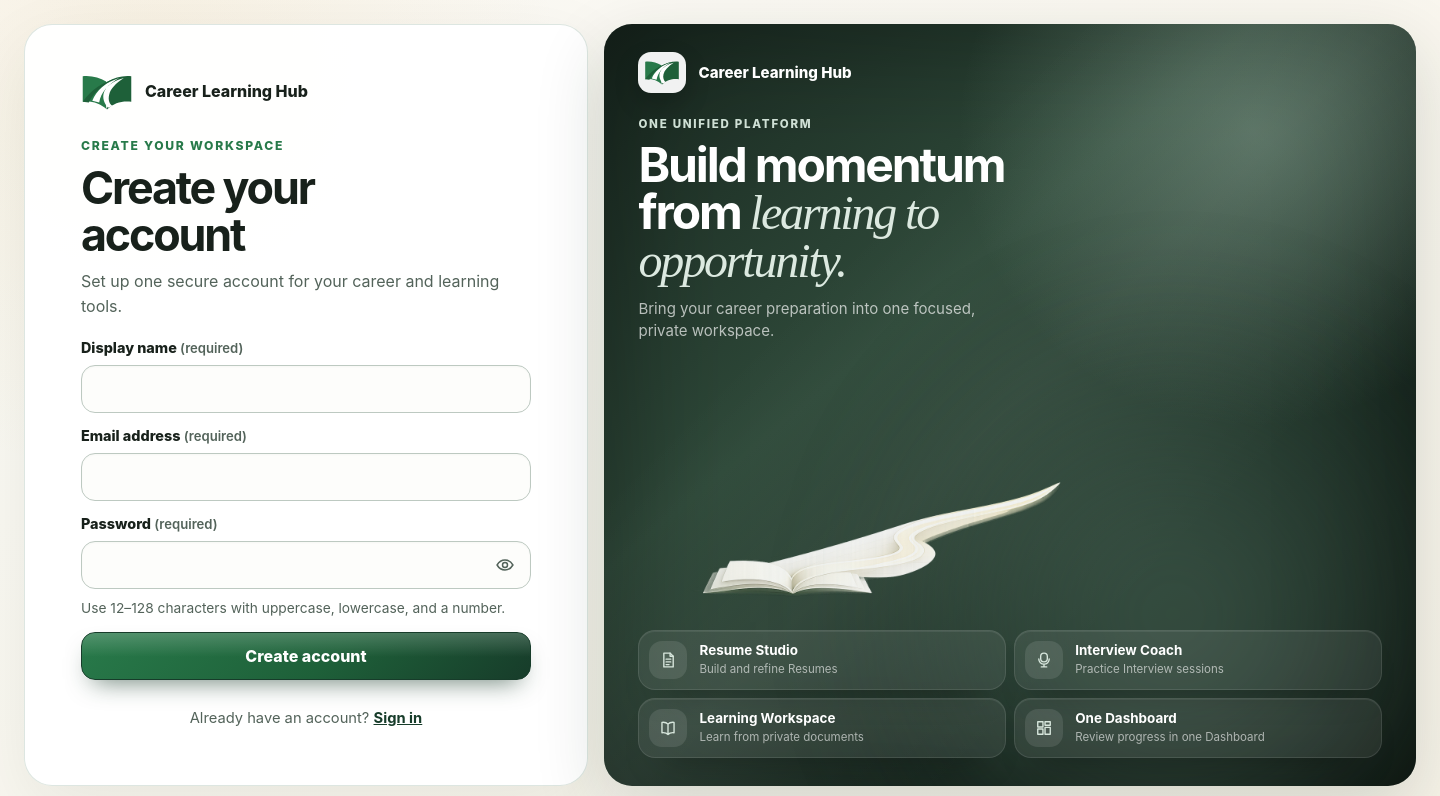
Scenario: authentication forms and shell interaction › renders the neutral registration failure without account disclosure
Expected: the heading "Create your account" is shown, x1=81 y1=161 x2=314 y2=262
Type "Registration User" into the field labelled "Display name" at (306, 388), box x1=81 y1=364 x2=531 y2=412
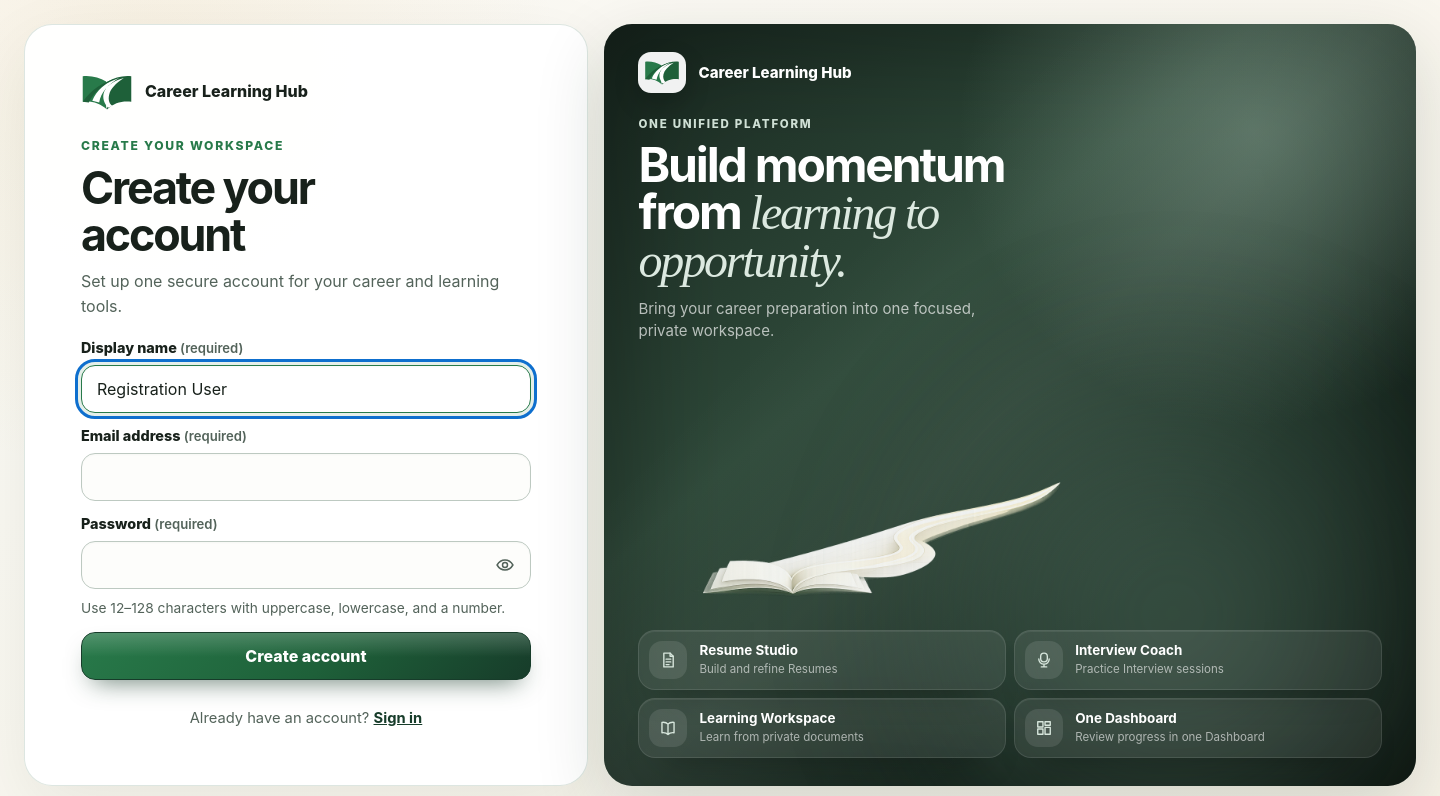
Type "existing@example.test" into the field labelled "Email address" at (306, 476), box x1=81 y1=452 x2=531 y2=500
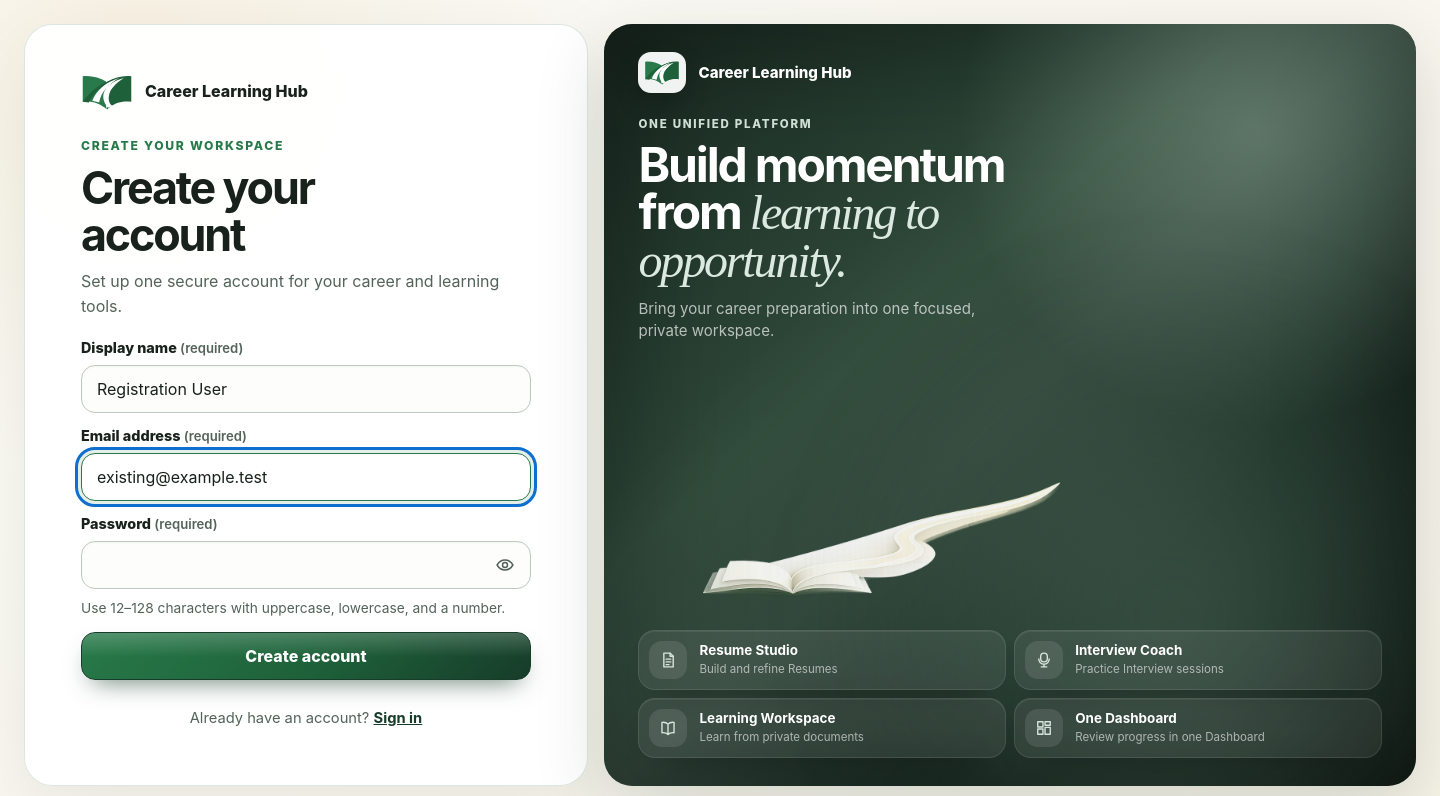
Type "SyntheticPassword1" into the password field labelled "Password" at (306, 564), box x1=81 y1=540 x2=531 y2=588
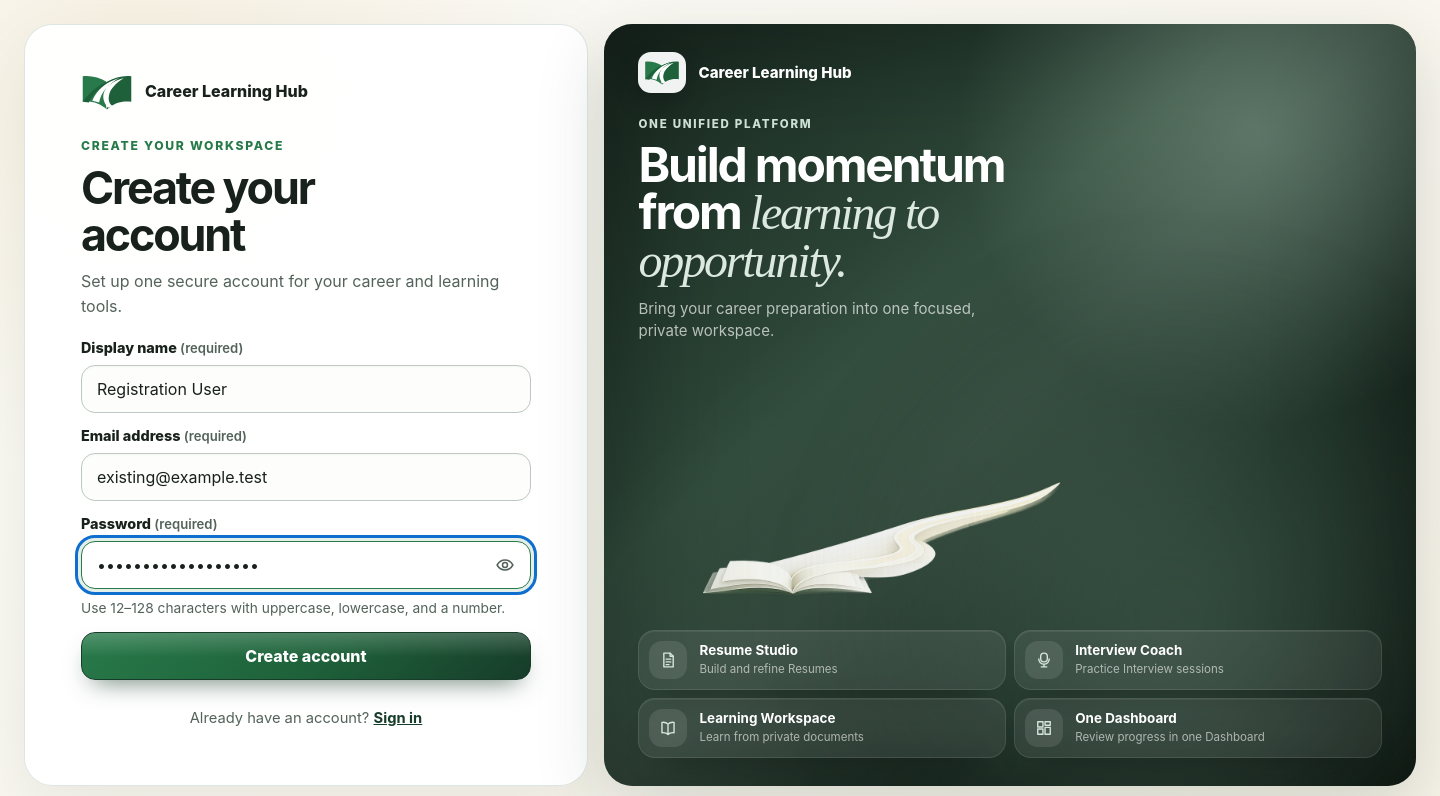
Click the button "Create account" at (306, 656), box x1=81 y1=632 x2=531 y2=680
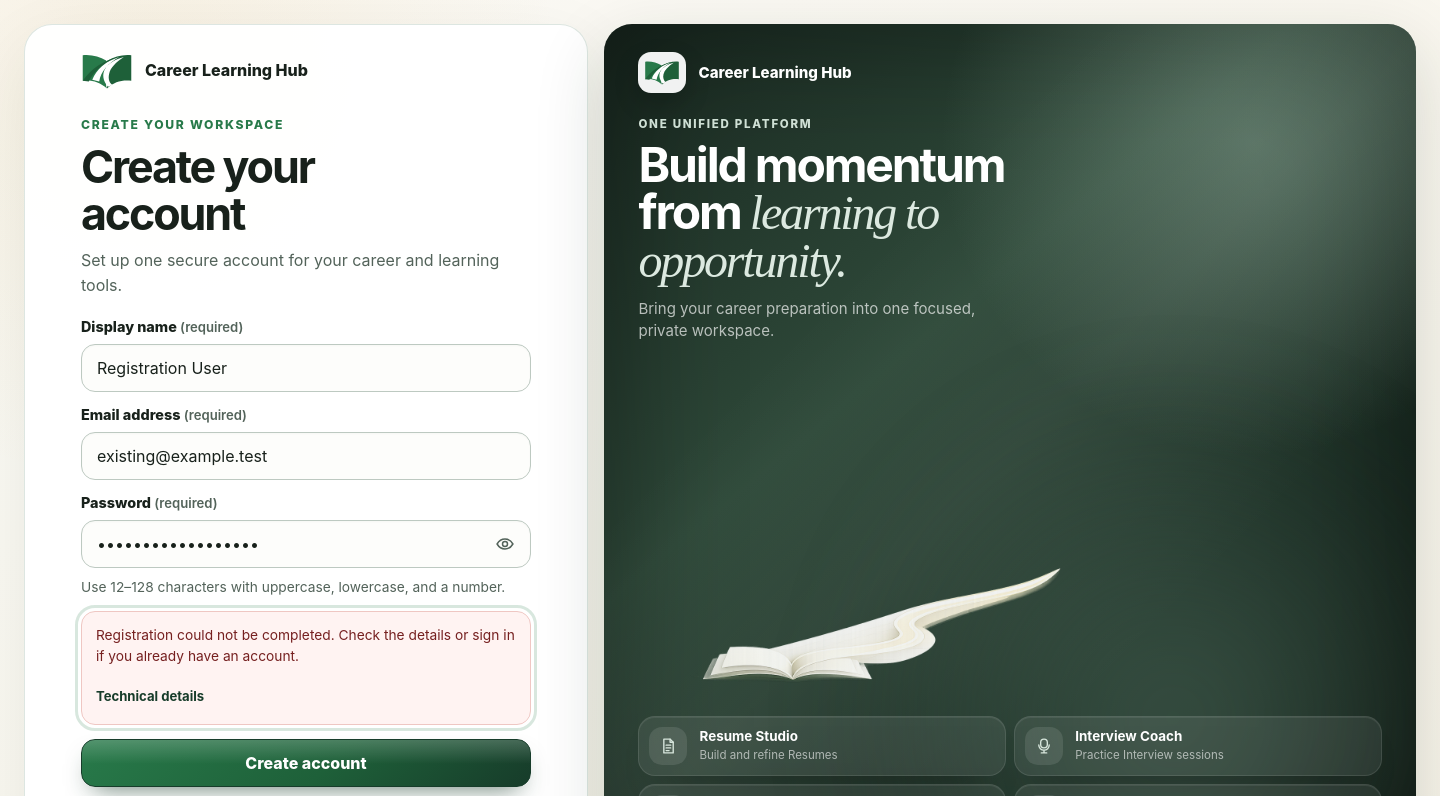
Now the text "Registration could not be completed. Check the details or sign in if you already have an account." is shown, box x1=96 y1=627 x2=515 y2=664
